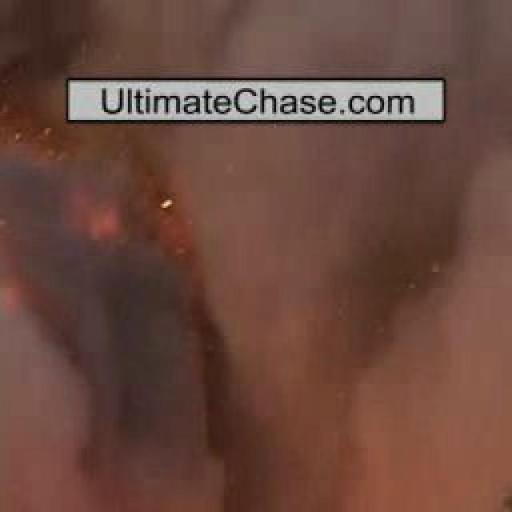smoke: (5, 105, 196, 325)
